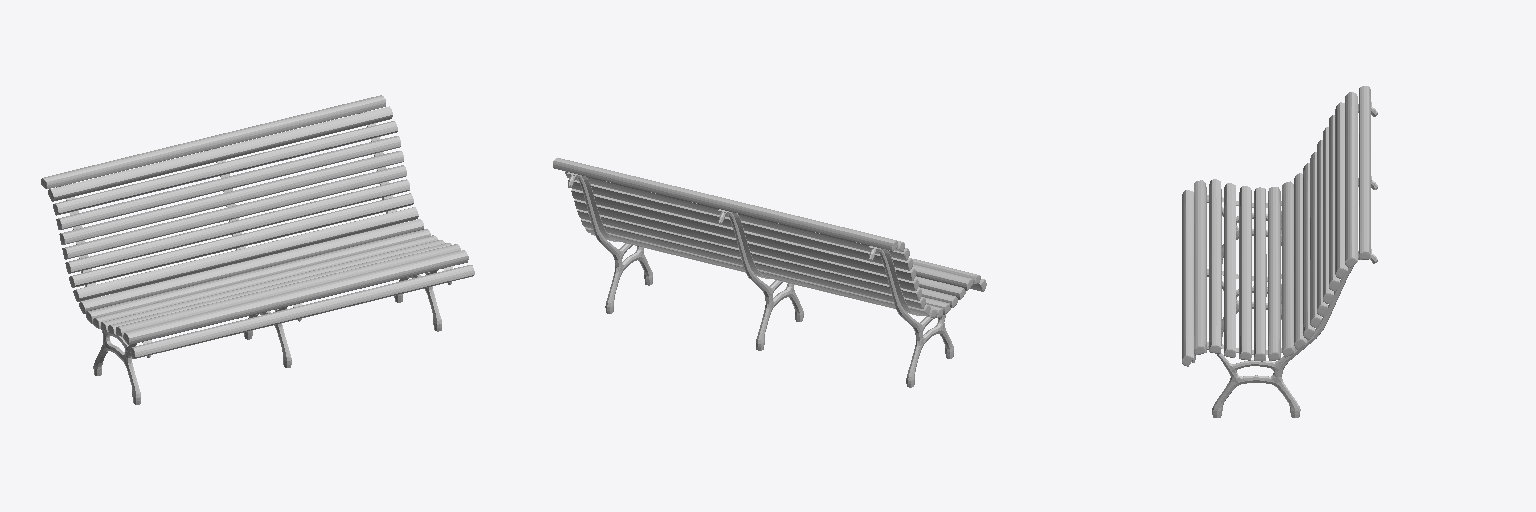
The model's file is bench.obj.
The picture shows the model from 3 angles: view 1: azimuth 30°, elevation 25°; view 2: azimuth 150°, elevation 25°; view 3: azimuth 270°, elevation 25°; orthographic projection.
Parts seen in each view (by area): view 1: wood_Cube, base_banco_Cube.001, sopport_Mesh.001; view 2: wood_Cube, base_banco_Cube.001, sopport_Mesh.001; view 3: wood_Cube, base_banco_Cube.001.
Part boxes in pixels (bbox=[...]): wood_Cube: bbox=[41, 95, 474, 358]; base_banco_Cube.001: bbox=[56, 113, 451, 404]; sopport_Mesh.001: bbox=[60, 111, 452, 343]; wood_Cube: bbox=[553, 158, 986, 317]; base_banco_Cube.001: bbox=[568, 175, 953, 387]; sopport_Mesh.001: bbox=[567, 172, 921, 315]; wood_Cube: bbox=[1182, 86, 1370, 366]; base_banco_Cube.001: bbox=[1192, 107, 1377, 417].
Size of the model in its own units: 2 by 0.9843 by 1.